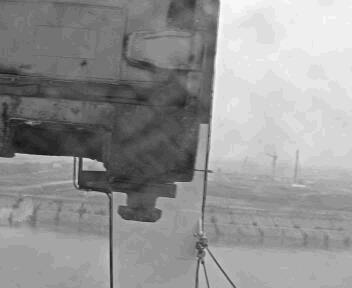twist_lock_1: (99, 173, 182, 226)
